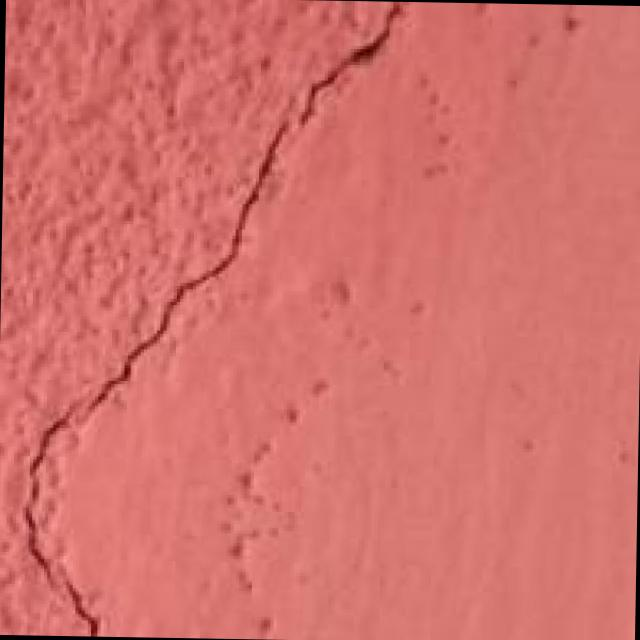crack: (0, 4, 399, 638)
